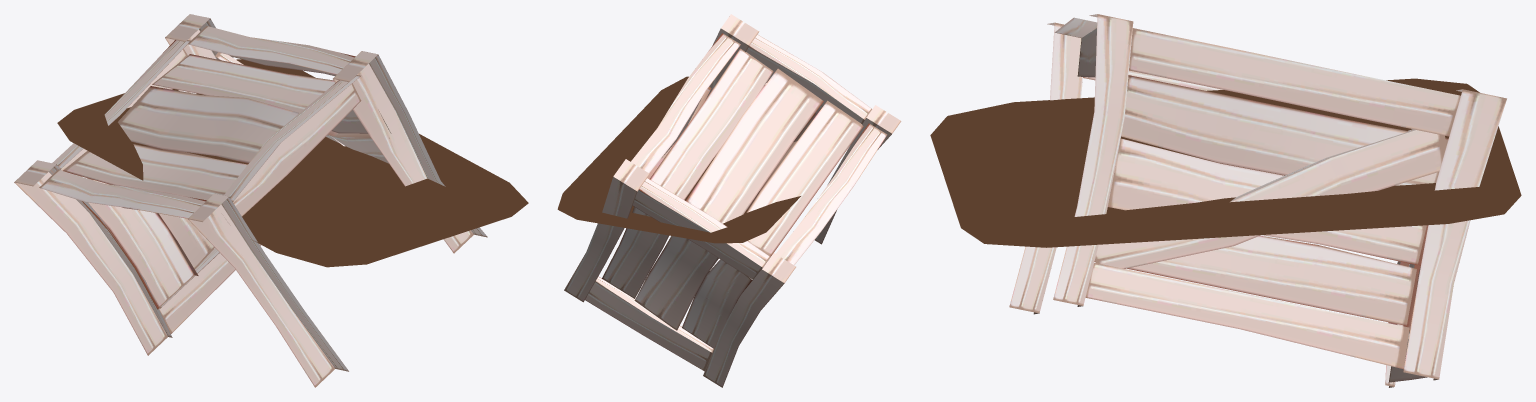
File: IslandTreasureCrate2.fbx
3 views of the same model, side by side, from view 1: azimuth 30°, elevation 25°; view 2: azimuth 150°, elevation 25°; view 3: azimuth 270°, elevation 25° (orthographic). The views are drawn at different scales.
Parts seen in each view (by area): view 1: CrateBig1, ShadowSquareDark; view 2: CrateBig1, ShadowSquareDark; view 3: CrateBig1, ShadowSquareDark.
Part boxes in pixels (bbox=[...]): CrateBig1: bbox=[14, 14, 487, 387]; ShadowSquareDark: bbox=[57, 59, 528, 267]; CrateBig1: bbox=[564, 14, 901, 387]; ShadowSquareDark: bbox=[557, 76, 815, 243]; CrateBig1: bbox=[1009, 14, 1506, 387]; ShadowSquareDark: bbox=[930, 78, 1521, 247].
Bounding box in the file's own units: 1.11 × 1.18 × 1.44.
